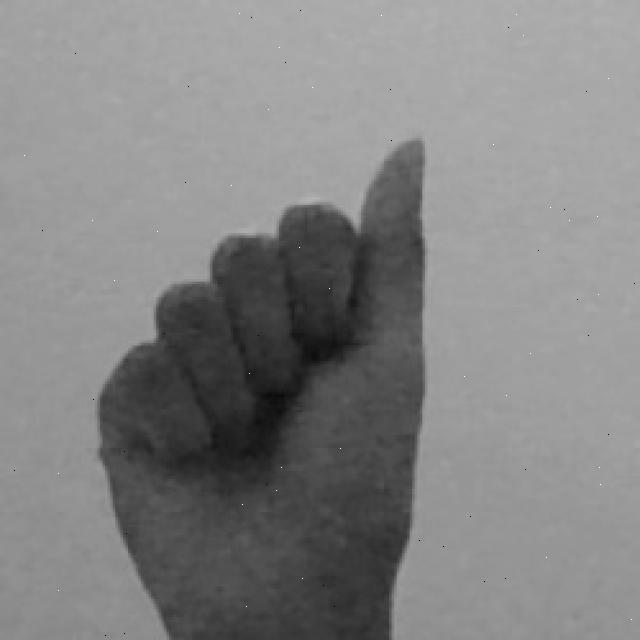A: (87, 115, 455, 640)
